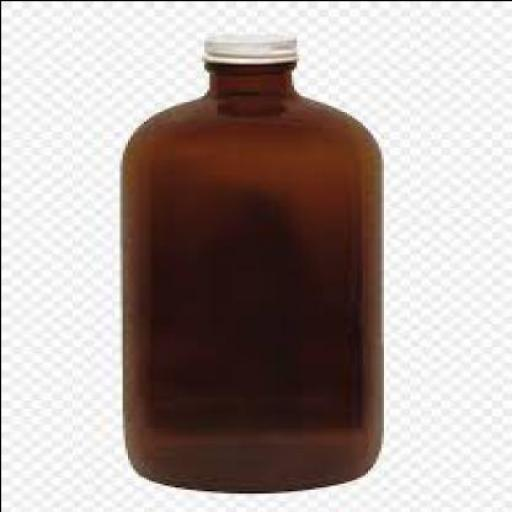glass: (124, 57, 386, 488)
metal: (206, 32, 301, 59)
